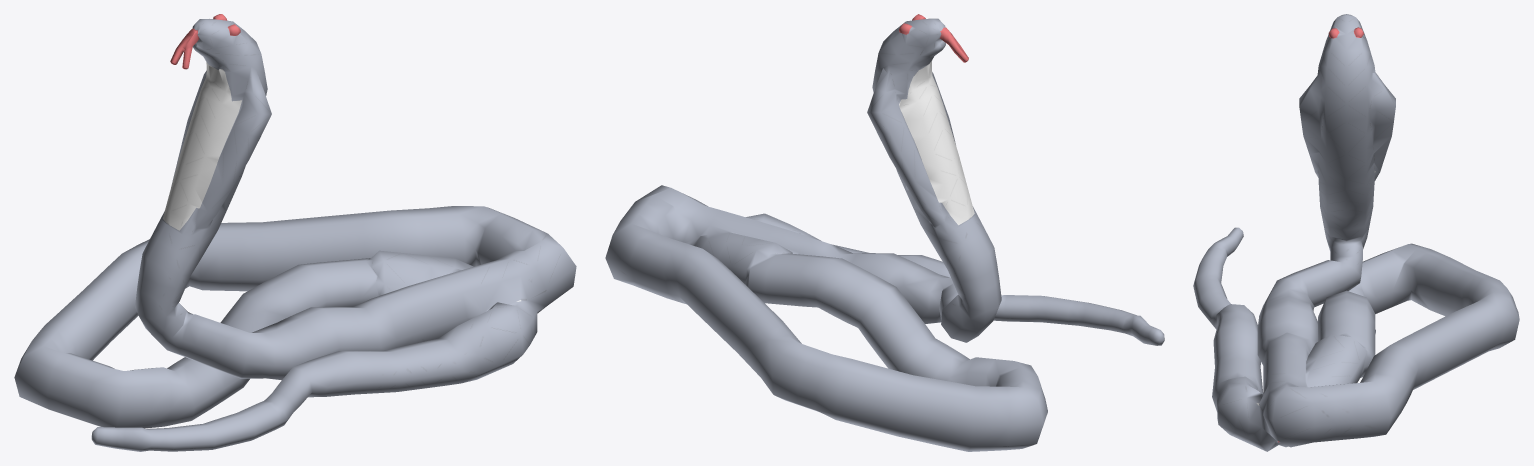
The model's file is cobra.fbx.
The picture shows the model from 3 angles, left to right: view 1: azimuth 30°, elevation 25°; view 2: azimuth 150°, elevation 25°; view 3: azimuth 270°, elevation 25°; orthographic projection. The views are drawn at different scales.
Parts seen in each view (by area): view 1: unamed; view 2: unamed; view 3: unamed.
Part boxes in pixels (box(x1,y1,x2,y2)): unamed: box(14, 14, 576, 451); unamed: box(605, 14, 1164, 451); unamed: box(1193, 14, 1519, 451).
Size of the model in its own units: 1.14 by 0.8514 by 0.7167.
Materials: 1 (1 with a texture image).
